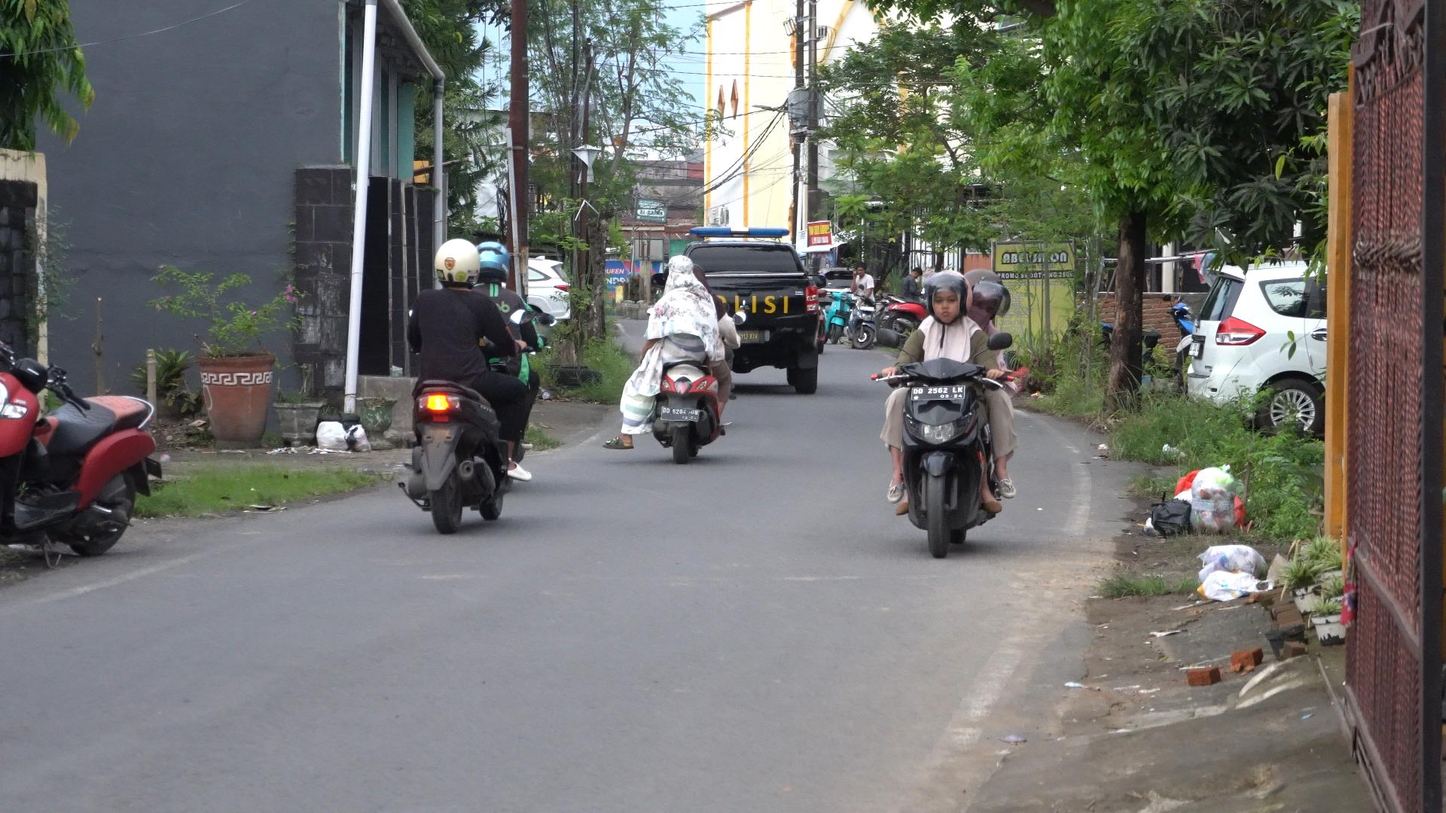number-plate: (907, 380, 966, 405)
